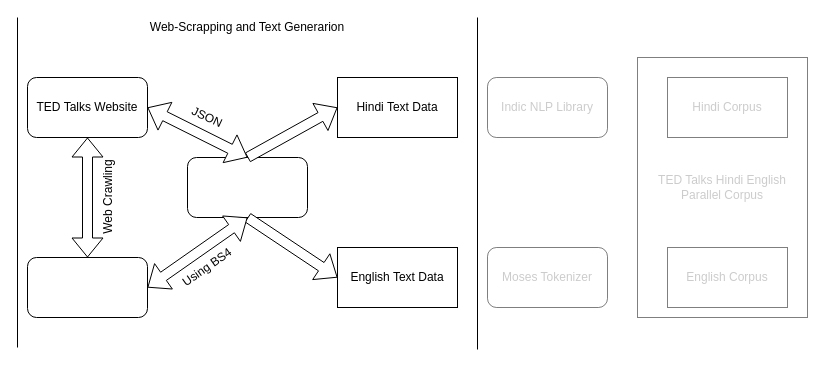
This 825x368 diagram has some shape labels left out. The centre of each missing label's shape, as x and y in pixels:
"Beautiful Soup" belongs at point (87, 287).
"Corpus Generator Method" belongs at point (247, 187).
